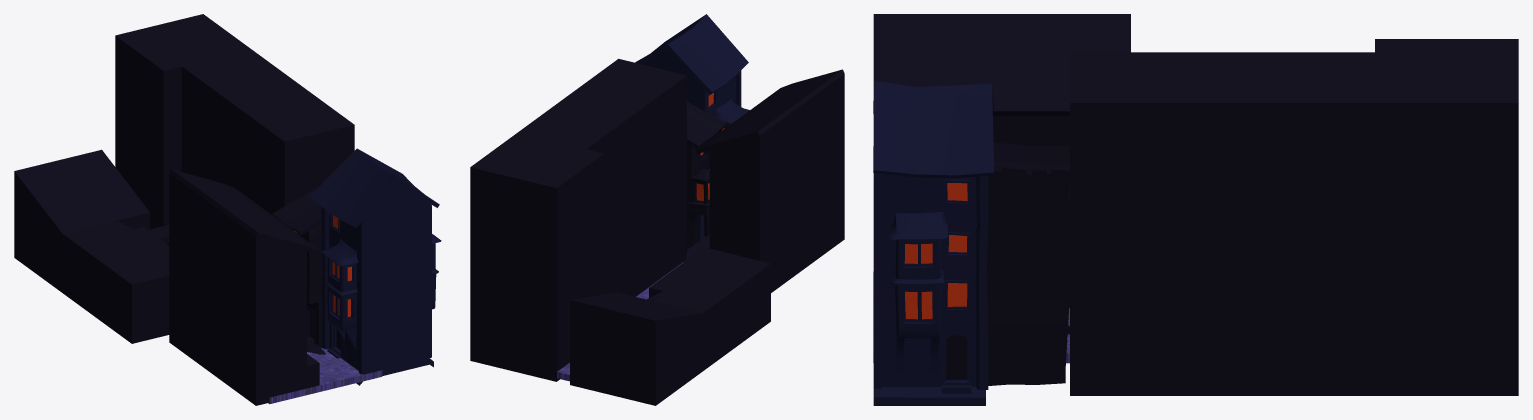
File: tile_test.obj
The picture shows the model from 3 angles, left to right: view 1: azimuth 30°, elevation 25°; view 2: azimuth 150°, elevation 25°; view 3: azimuth 270°, elevation 25°; orthographic projection. The views are drawn at different scales.
Parts seen in each view (by area): view 1: Cube.001, House3, House02, Cube, House01, Ground01; view 2: Cube.001, House3, Cube, House02, House01; view 3: Cube.001, House02, House3, House01.
Boxes of the visible parts, bbox=[...] form: Cube.001: bbox=[115, 14, 354, 229]; House3: bbox=[169, 169, 321, 405]; House02: bbox=[310, 148, 441, 385]; Cube: bbox=[14, 149, 169, 343]; House01: bbox=[272, 186, 325, 354]; Ground01: bbox=[268, 348, 382, 404]; Cube.001: bbox=[470, 58, 686, 381]; House3: bbox=[695, 69, 844, 292]; Cube: bbox=[570, 247, 770, 405]; House02: bbox=[635, 14, 749, 130]; House01: bbox=[683, 101, 726, 262]; Cube.001: bbox=[1070, 39, 1518, 395]; House02: bbox=[873, 81, 994, 405]; House3: bbox=[873, 14, 1130, 307]; House01: bbox=[987, 142, 1069, 385].
Bounding box in the file's own units: 34.51 × 30.86 × 60.11.
